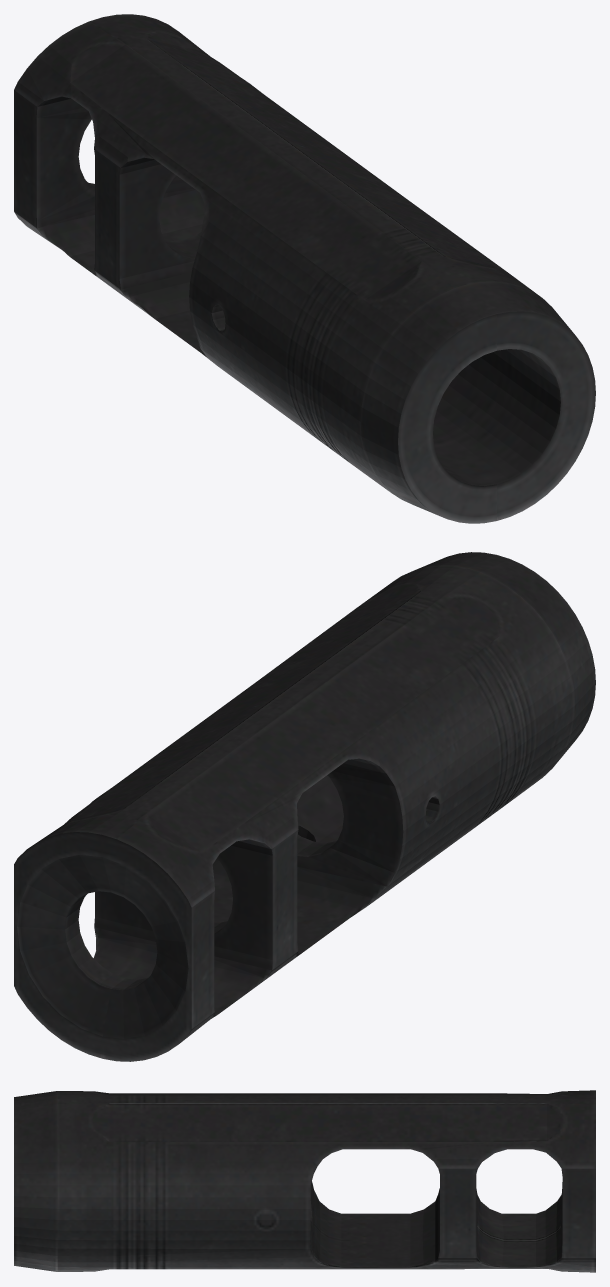
3 views of the same model, one above another, from view 1: azimuth 30°, elevation 25°; view 2: azimuth 150°, elevation 25°; view 3: azimuth 270°, elevation 25° (orthographic). The views are drawn at different scales.
Parts seen in each view (by area): view 1: TW_607ffb988900dc2d9a55b6e4_PZ_Import; view 2: TW_607ffb988900dc2d9a55b6e4_PZ_Import; view 3: TW_607ffb988900dc2d9a55b6e4_PZ_Import.
Part boxes in pixels (x1,y1,x2,y2): TW_607ffb988900dc2d9a55b6e4_PZ_Import: [14, 14, 595, 523]; TW_607ffb988900dc2d9a55b6e4_PZ_Import: [14, 552, 595, 1061]; TW_607ffb988900dc2d9a55b6e4_PZ_Import: [14, 1090, 595, 1272].
Bounding box in the file's own units: 0.0124 × 0.0396 × 0.0124.
Materials: 1 (1 with a texture image).
